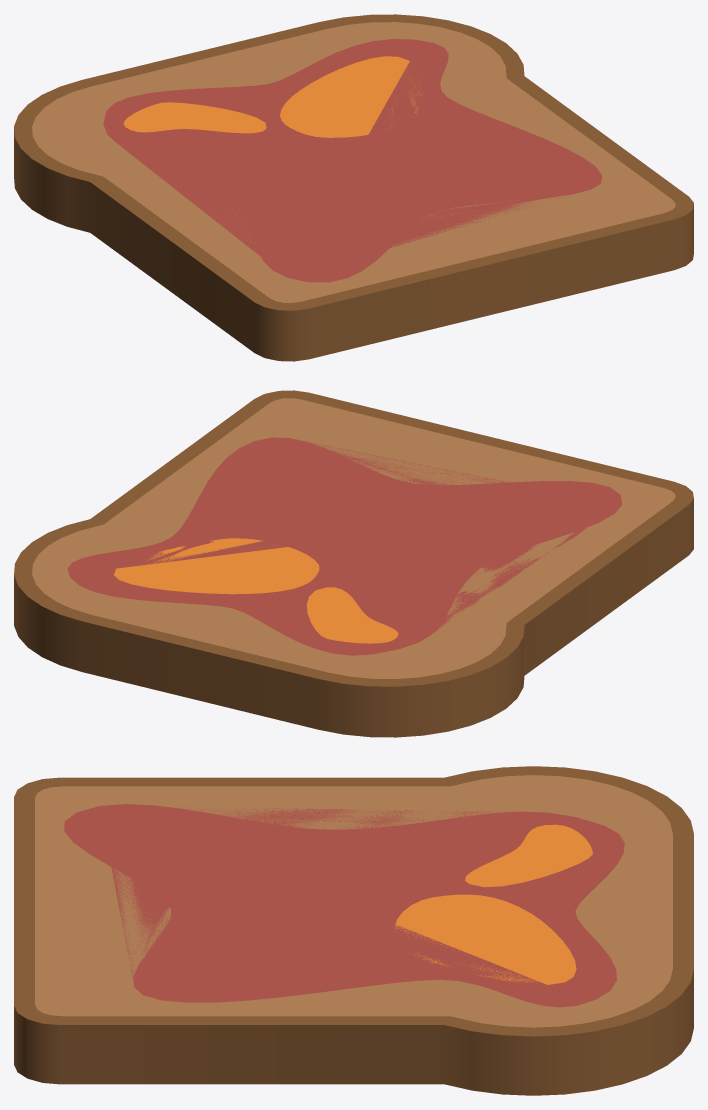
File: Bread N.fbx
The picture shows the model from 3 angles, top to bottom: view 1: azimuth 30°, elevation 25°; view 2: azimuth 150°, elevation 25°; view 3: azimuth 270°, elevation 25°; orthographic projection. The views are drawn at different scales.
Parts seen in each view (by area): view 1: Bread N; view 2: Bread N; view 3: Bread N.
Part boxes in pixels (bbox=[...]): Bread N: bbox=[14, 14, 693, 361]; Bread N: bbox=[14, 390, 693, 737]; Bread N: bbox=[14, 766, 693, 1095].
Size of the model in its own units: 0.6767 by 0.0692 by 0.7193.
